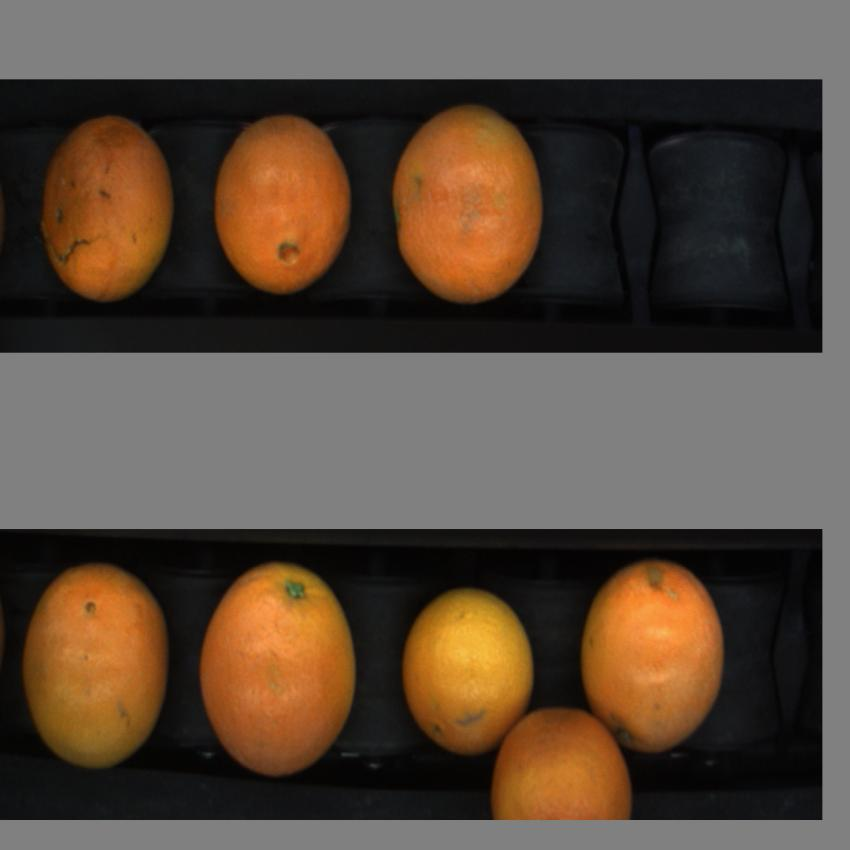Buen estado: (197, 553, 368, 787), (384, 100, 562, 316), (24, 557, 171, 774), (206, 111, 366, 305), (580, 561, 729, 752), (398, 581, 536, 762), (492, 689, 638, 840)
Mal estado: (41, 102, 184, 309)
